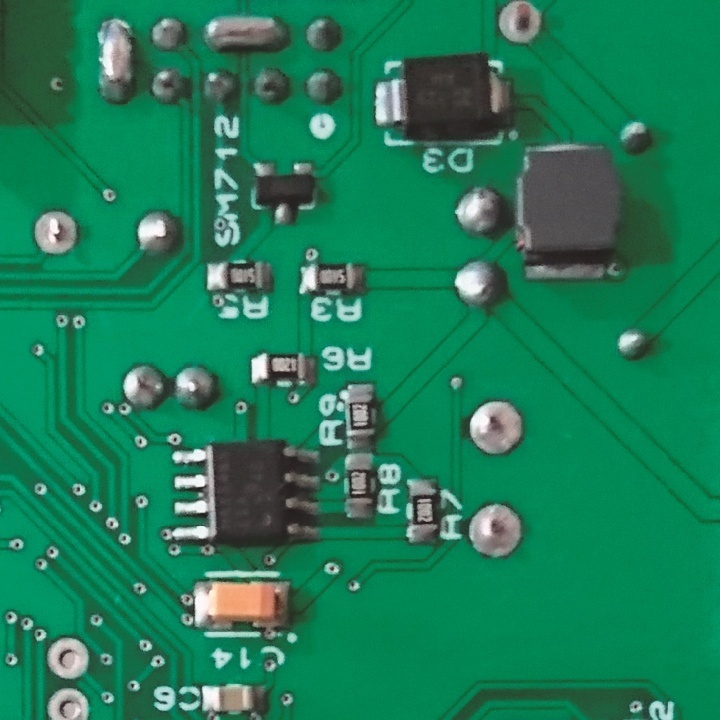F: (465, 502, 524, 565), (466, 400, 527, 458), (30, 204, 82, 258), (495, 1, 545, 47), (46, 633, 92, 679), (45, 690, 93, 720)
P: (201, 12, 293, 55), (95, 15, 136, 104)
